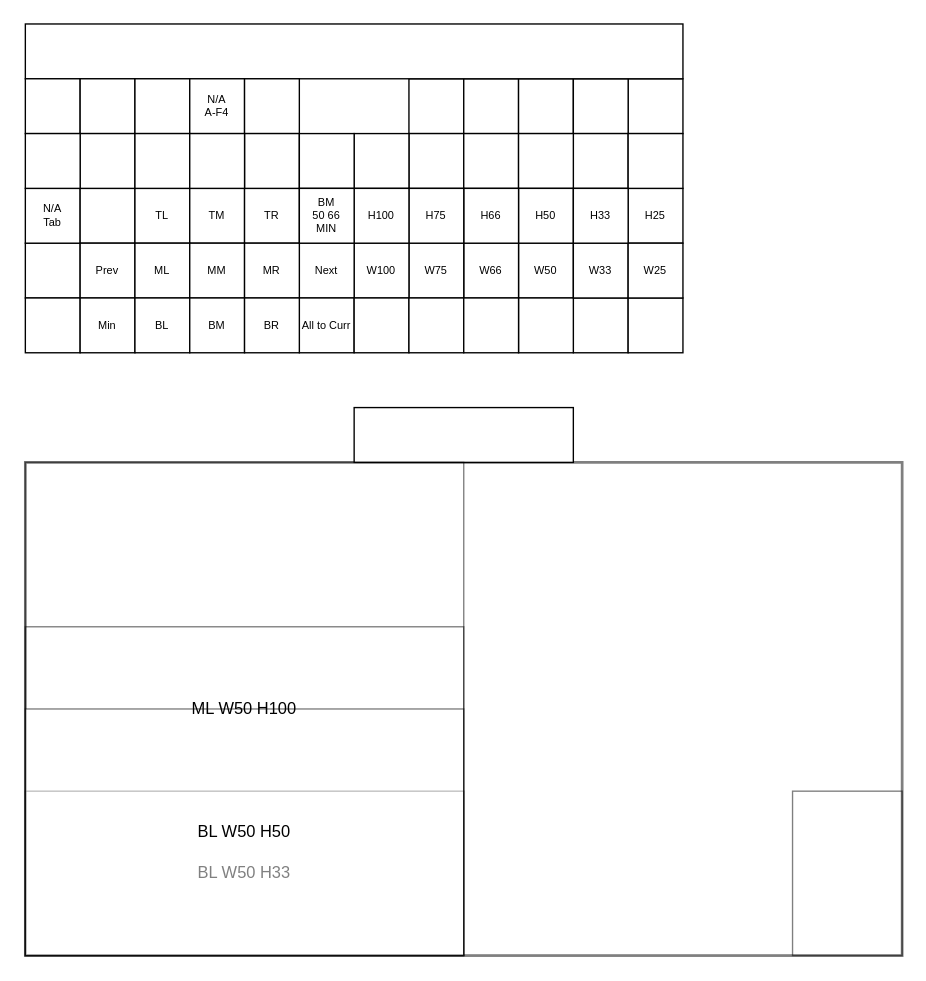
Some shapes in this 926 by 981 pixel diagram are drawn without their labels. Here are the shapes that lost their labels. From the top down, the box of each, then its label:
(24, 23, 683, 79): A-S-<k>
(353, 406, 573, 462): 16:9 Monitor
(24, 625, 464, 956): BL W50 H66
(791, 790, 902, 956): BR W25 H33
